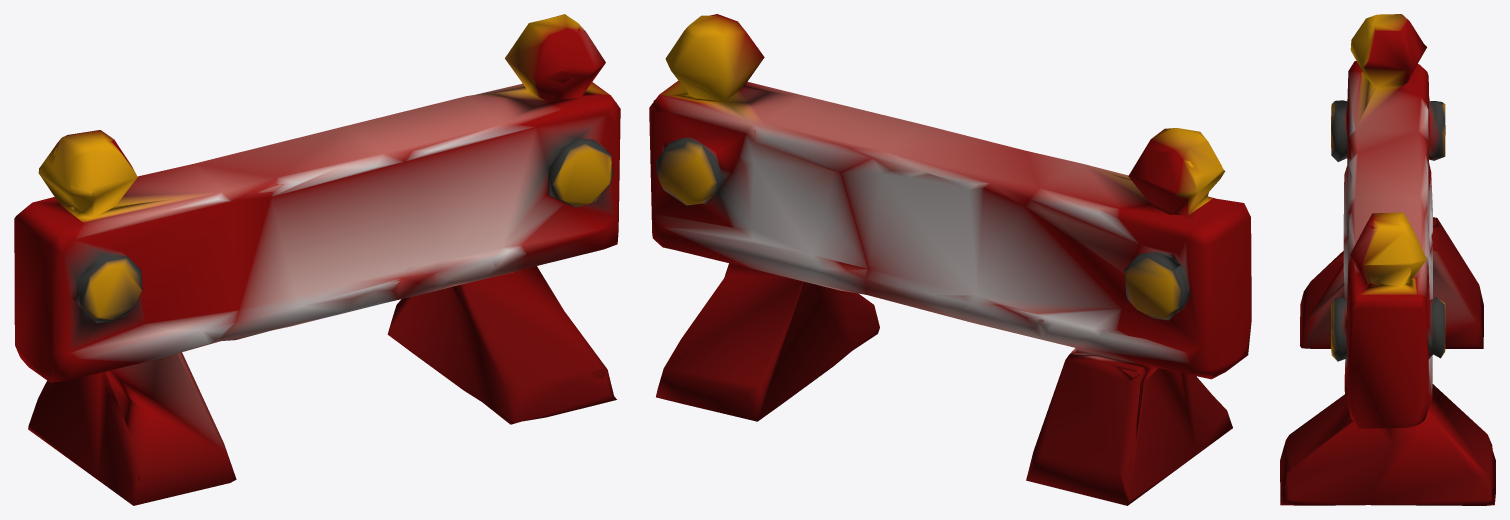
Rendered from gen3d-roadblock-lod1.glb.
The picture shows the model from 3 angles, left to right: view 1: azimuth 30°, elevation 25°; view 2: azimuth 150°, elevation 25°; view 3: azimuth 270°, elevation 25°; orthographic projection. The views are drawn at different scales.
Visible parts, largest first — view 1: part_0; view 2: part_0; view 3: part_0.
Part boxes in pixels (x1,y1,x2,y2): part_0: (14, 14, 620, 505); part_0: (649, 14, 1251, 505); part_0: (1280, 14, 1495, 505).
Bounding box in the file's own units: 1.79 × 0.9999 × 0.6795.
